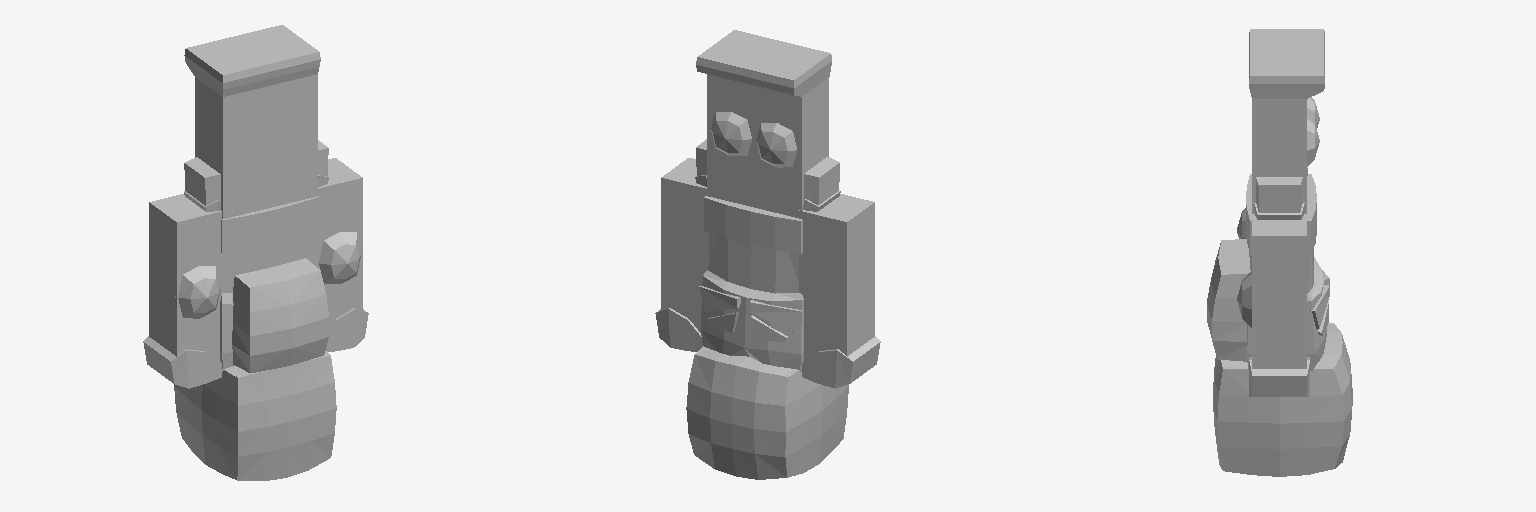
Rendered from stalker.seva.obj.
The picture shows the model from 3 angles: view 1: azimuth 30°, elevation 25°; view 2: azimuth 150°, elevation 25°; view 3: azimuth 270°, elevation 25°; orthographic projection.
Visible parts, largest first — view 1: bodyModel, headModel, rightLegModel, rightArmModel, leftLegModel, leftArmModel; view 2: headModel, bodyModel, rightArmModel, rightLegModel, leftLegModel, leftArmModel; view 3: headModel, leftArmModel, leftLegModel, bodyModel, rightLegModel.
Boxes of the visible parts, box(x1,y1,x2,y2) form: bodyModel: box(220, 196, 328, 373); headModel: box(174, 351, 336, 480); rightLegModel: box(184, 37, 271, 218); rightArmModel: box(143, 194, 222, 388); leftLegModel: box(234, 25, 328, 206); leftArmModel: box(317, 158, 368, 351); headModel: box(686, 346, 848, 479); bodyModel: box(699, 196, 803, 371); rightArmModel: box(799, 194, 880, 388); rightLegModel: box(746, 42, 840, 217); leftLegModel: box(695, 30, 782, 207); leftArmModel: box(655, 158, 708, 351); headModel: box(1213, 323, 1352, 476); leftArmModel: box(1237, 214, 1309, 396); leftLegModel: box(1249, 52, 1324, 219); bodyModel: box(1207, 174, 1329, 371); rightLegModel: box(1249, 29, 1324, 127).
Size of the model in its own units: 17.13 by 33.63 by 10.96.